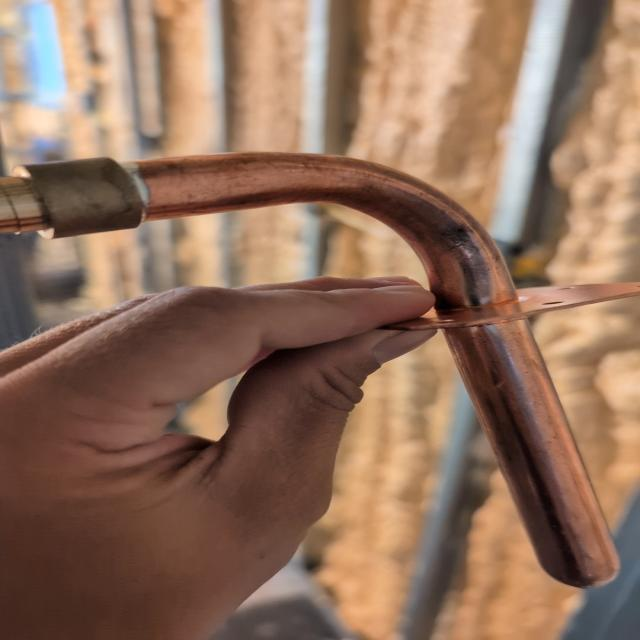wall_flange: (0, 144, 639, 608)
